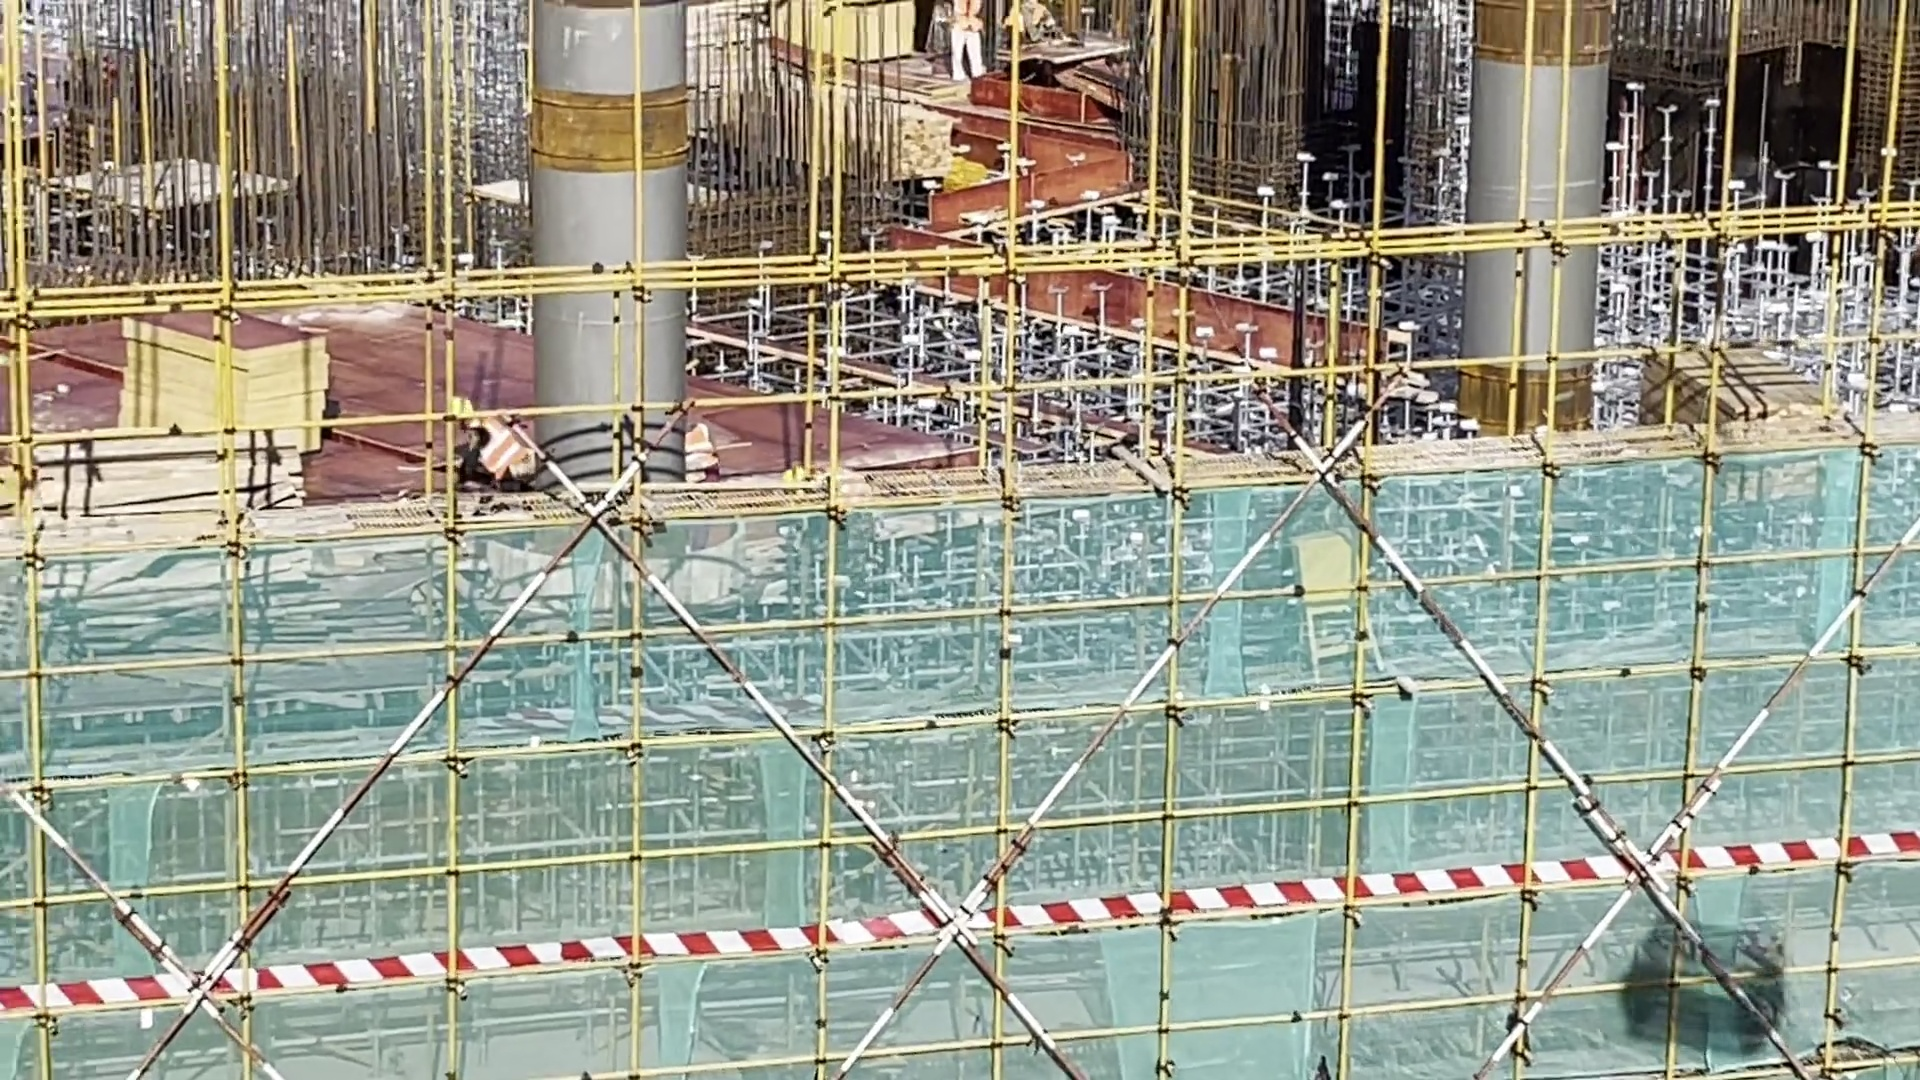board: (101, 273, 336, 484), (1641, 341, 1831, 449), (765, 1, 913, 66)
ebox: (1288, 527, 1387, 680)
helmet: (446, 392, 479, 427)
person: (452, 384, 538, 490), (947, 1, 999, 101)
vest: (475, 406, 539, 491), (679, 412, 722, 493), (948, 1, 987, 38)
wood: (1, 427, 295, 573)
